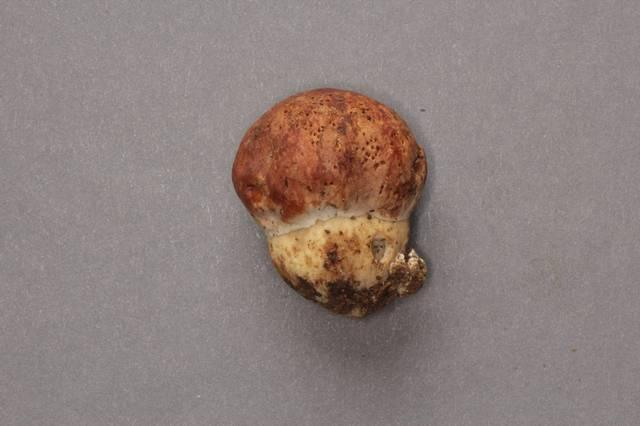edible_mushroom: (230, 86, 429, 318)
